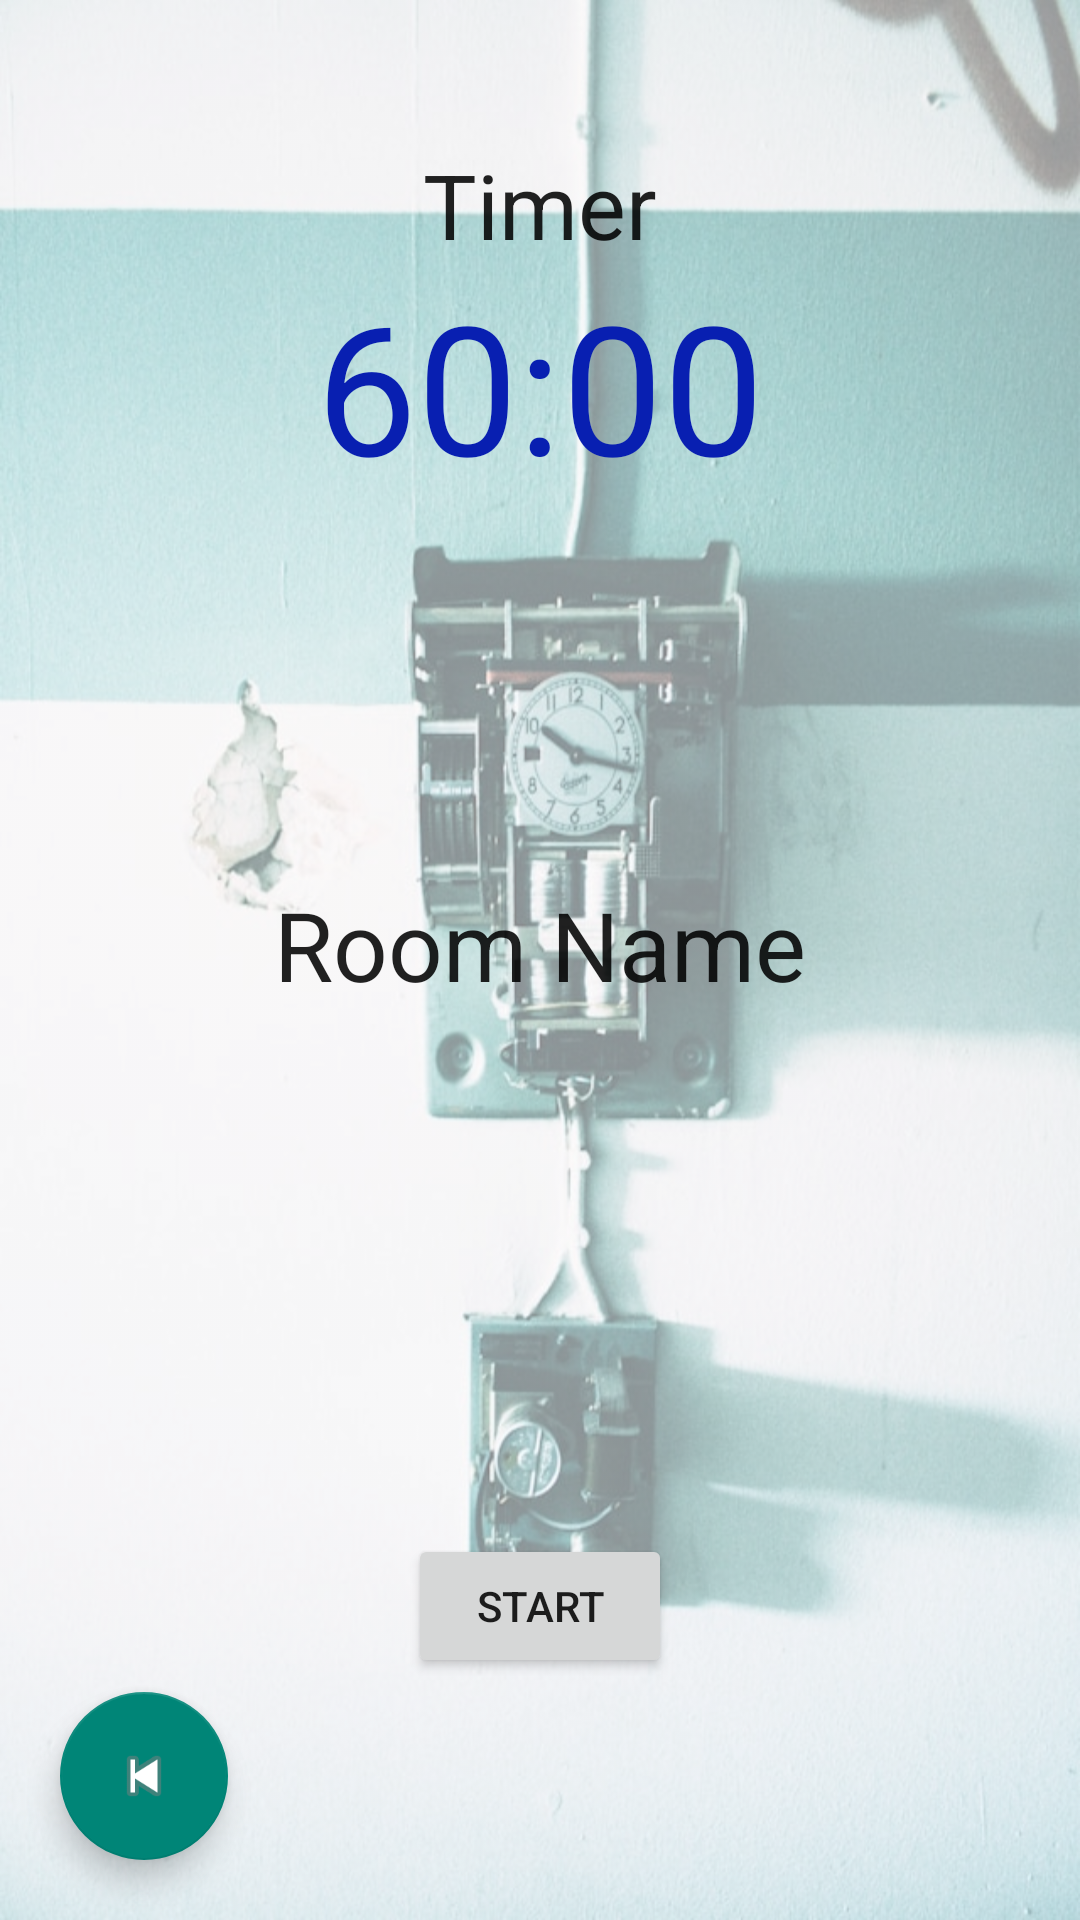

Where to tap for icons on this 1080*1920 app screen, as (x,y):
Back: (144,1776)
